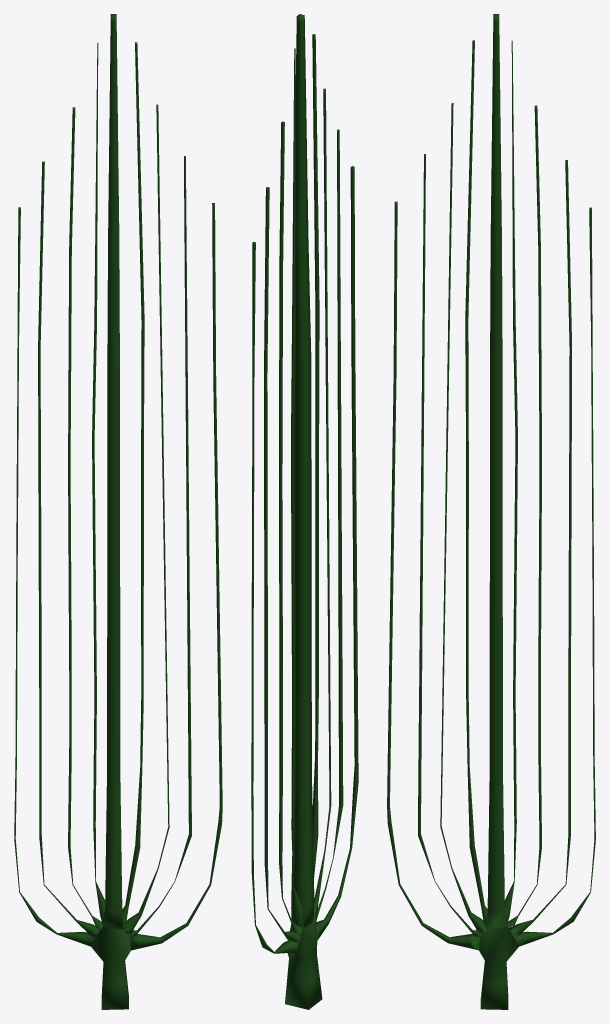
The model's file is Tulang_Daun_Sejajar.fbx.
3 renders of one model, left to right at view 1: azimuth 90°, elevation 25°; view 2: azimuth 150°, elevation 25°; view 3: azimuth 270°, elevation 25°, orthographic.
Parts seen in each view (by area): view 1: Cube; view 2: Cube; view 3: Cube.
Part boxes in pixels (<box>): Cube: <box>14,14,222,1009</box>; Cube: <box>251,14,358,1009</box>; Cube: <box>387,14,595,1009</box>.
Bounding box in the file's own units: 12.78 × 505 × 96.64.
